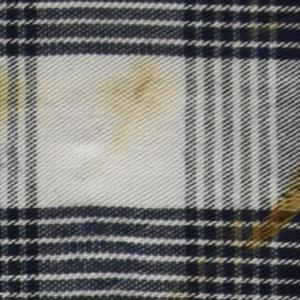Oil Stain: (166, 165, 300, 300), (92, 58, 185, 156)
Stain: (1, 63, 32, 128), (245, 11, 288, 43)
